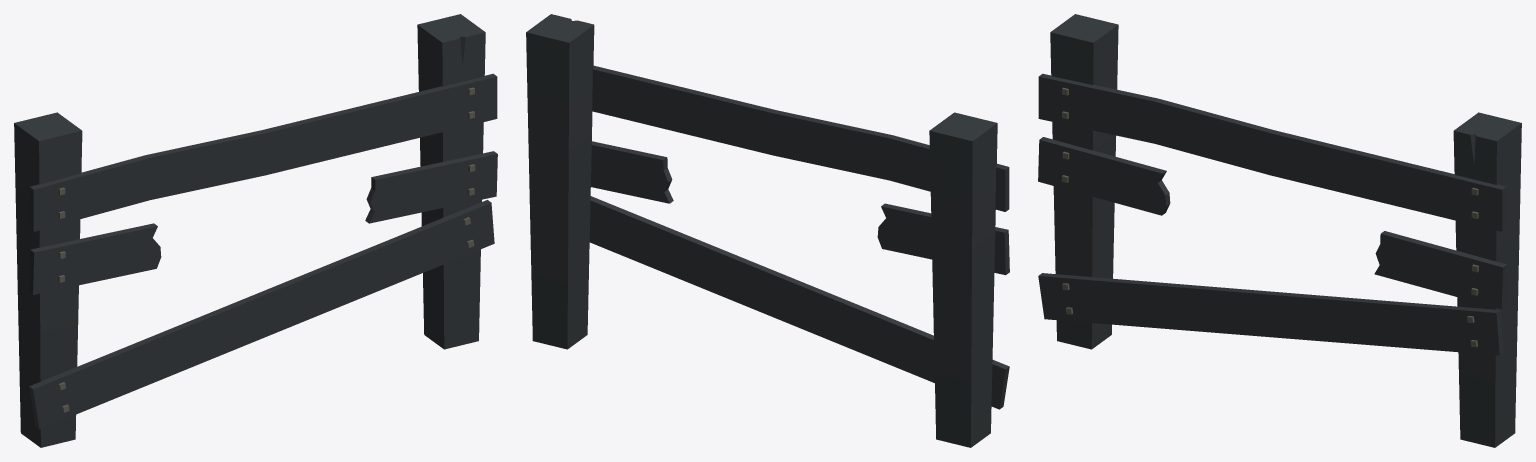
Rendered from Fence_06.fbx.
The picture shows the model from 3 angles, left to right: view 1: azimuth 30°, elevation 25°; view 2: azimuth 150°, elevation 25°; view 3: azimuth 330°, elevation 25°; orthographic projection.
Visible parts, largest first — view 1: Fence_06; view 2: Fence_06; view 3: Fence_06.
Boxes of the visible parts, x1,y1,x2,y2 form: Fence_06: (14,14,497,447); Fence_06: (526,14,1009,447); Fence_06: (1038,14,1521,447).
Bounding box in the file's own units: 1.73 × 1.1 × 0.1903.
